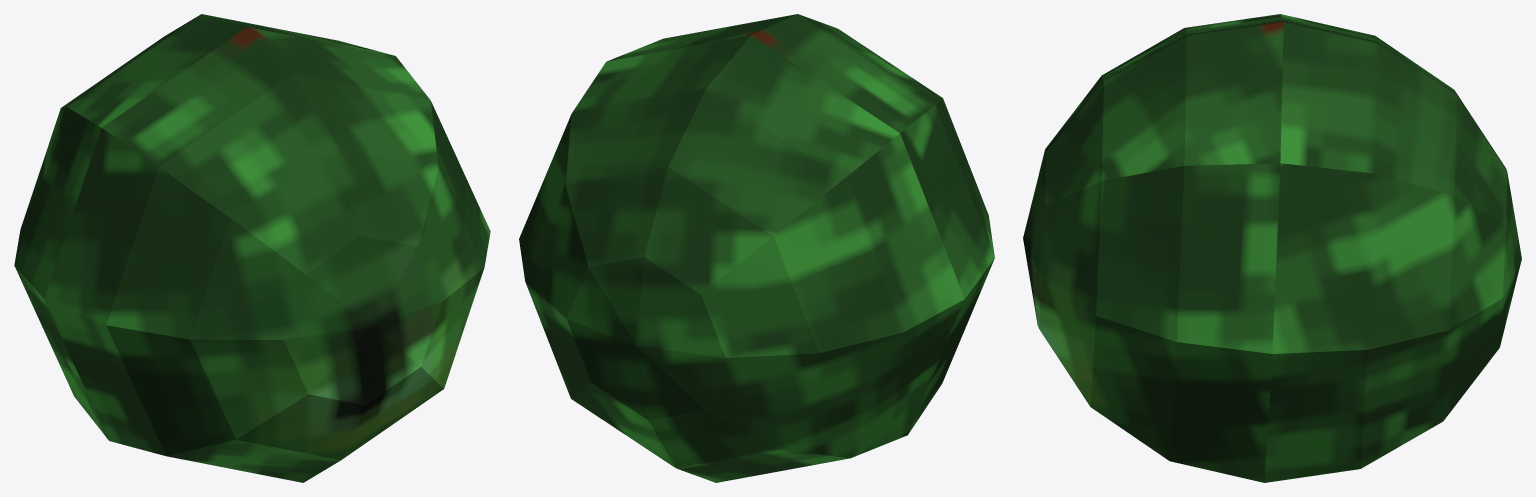
Rendered from malwratheye.obj.
The picture shows the model from 3 angles, left to right: view 1: azimuth 30°, elevation 25°; view 2: azimuth 150°, elevation 25°; view 3: azimuth 270°, elevation 25°; orthographic projection. The views are drawn at different scales.
Parts seen in each view (by area): view 1: malwratheye; view 2: malwratheye; view 3: malwratheye.
Part boxes in pixels (left/top/right/bottom): malwratheye: left=14, top=14, right=490, bottom=482; malwratheye: left=519, top=14, right=994, bottom=482; malwratheye: left=1023, top=14, right=1521, bottom=482.
Size of the model in its own units: 0.3725 by 0.3722 by 0.3722.
